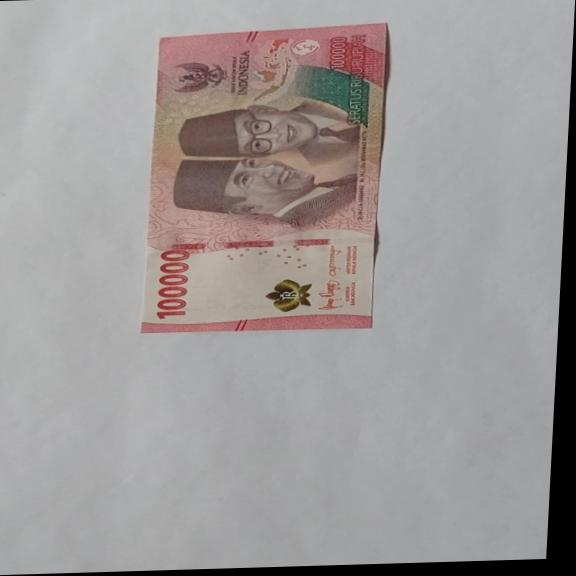Kertas: (138, 22, 391, 335), (153, 248, 192, 320)
